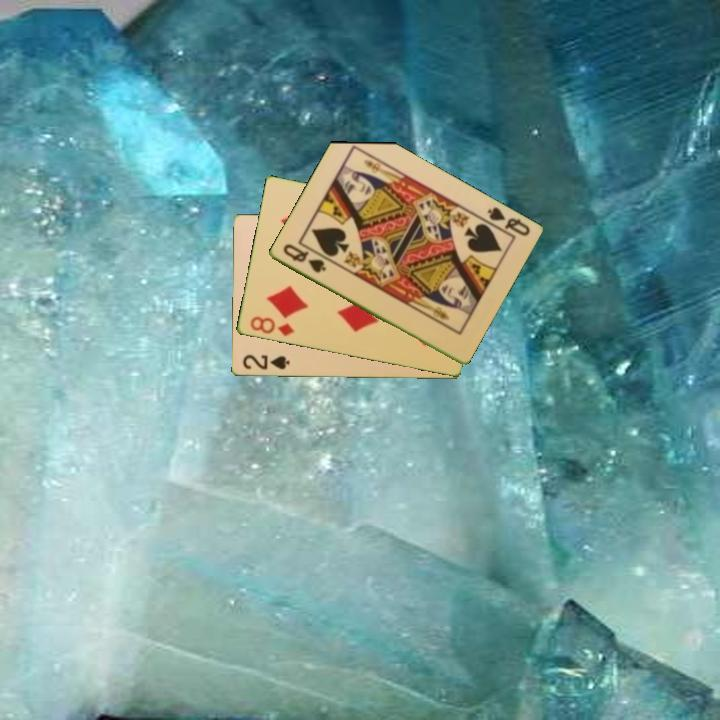2s: (239, 352, 292, 373)
8d: (246, 313, 297, 339)
Qs: (279, 240, 329, 276), (483, 203, 533, 239)
